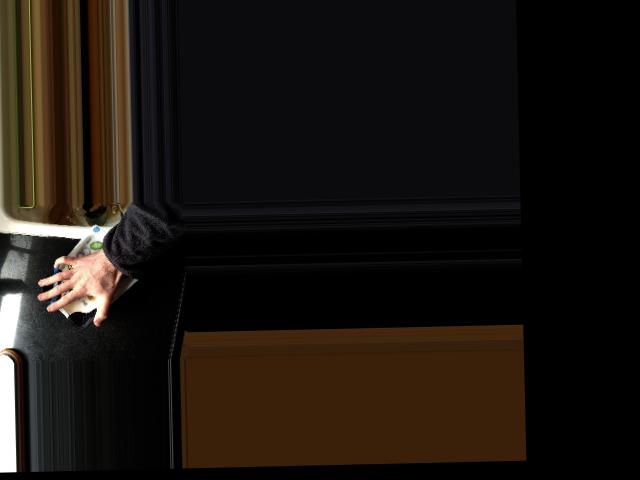cheese: (36, 220, 146, 330)
